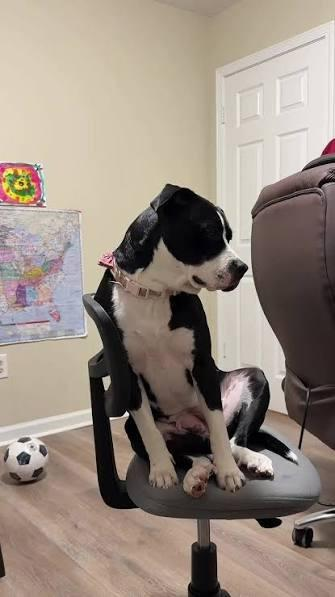adult_dog: (94, 184, 277, 497)
